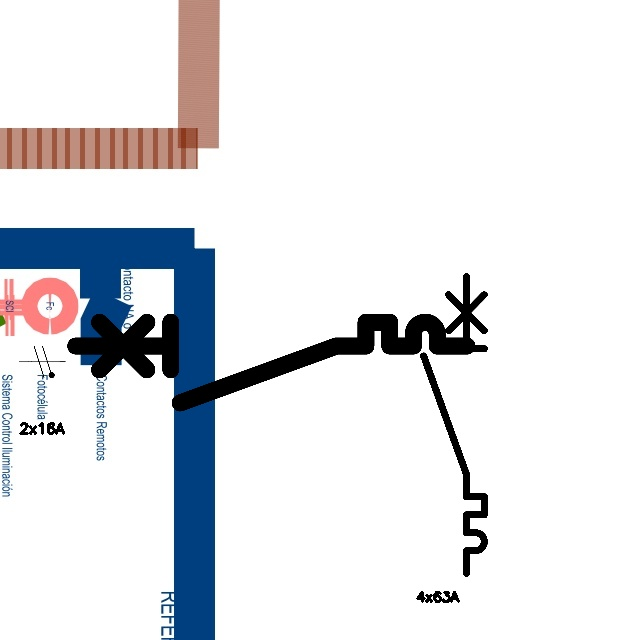interruptor_termomagnetico: (65, 312, 477, 412), (416, 269, 492, 581)
